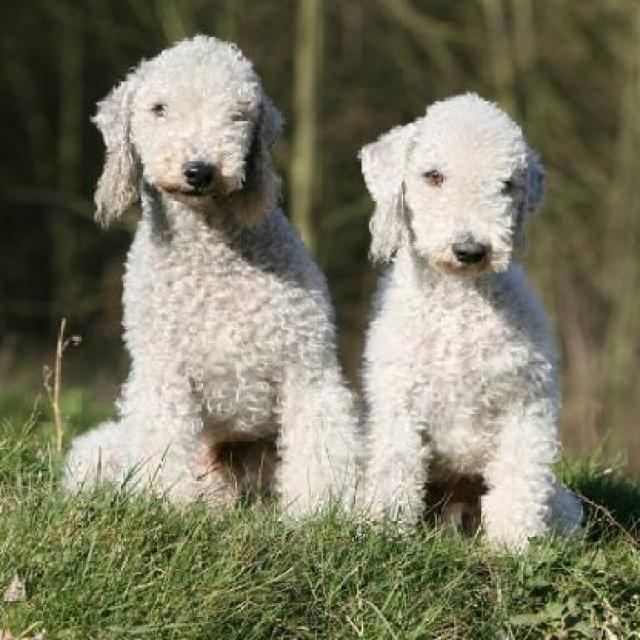animals: (44, 15, 358, 620), (332, 34, 640, 626)
